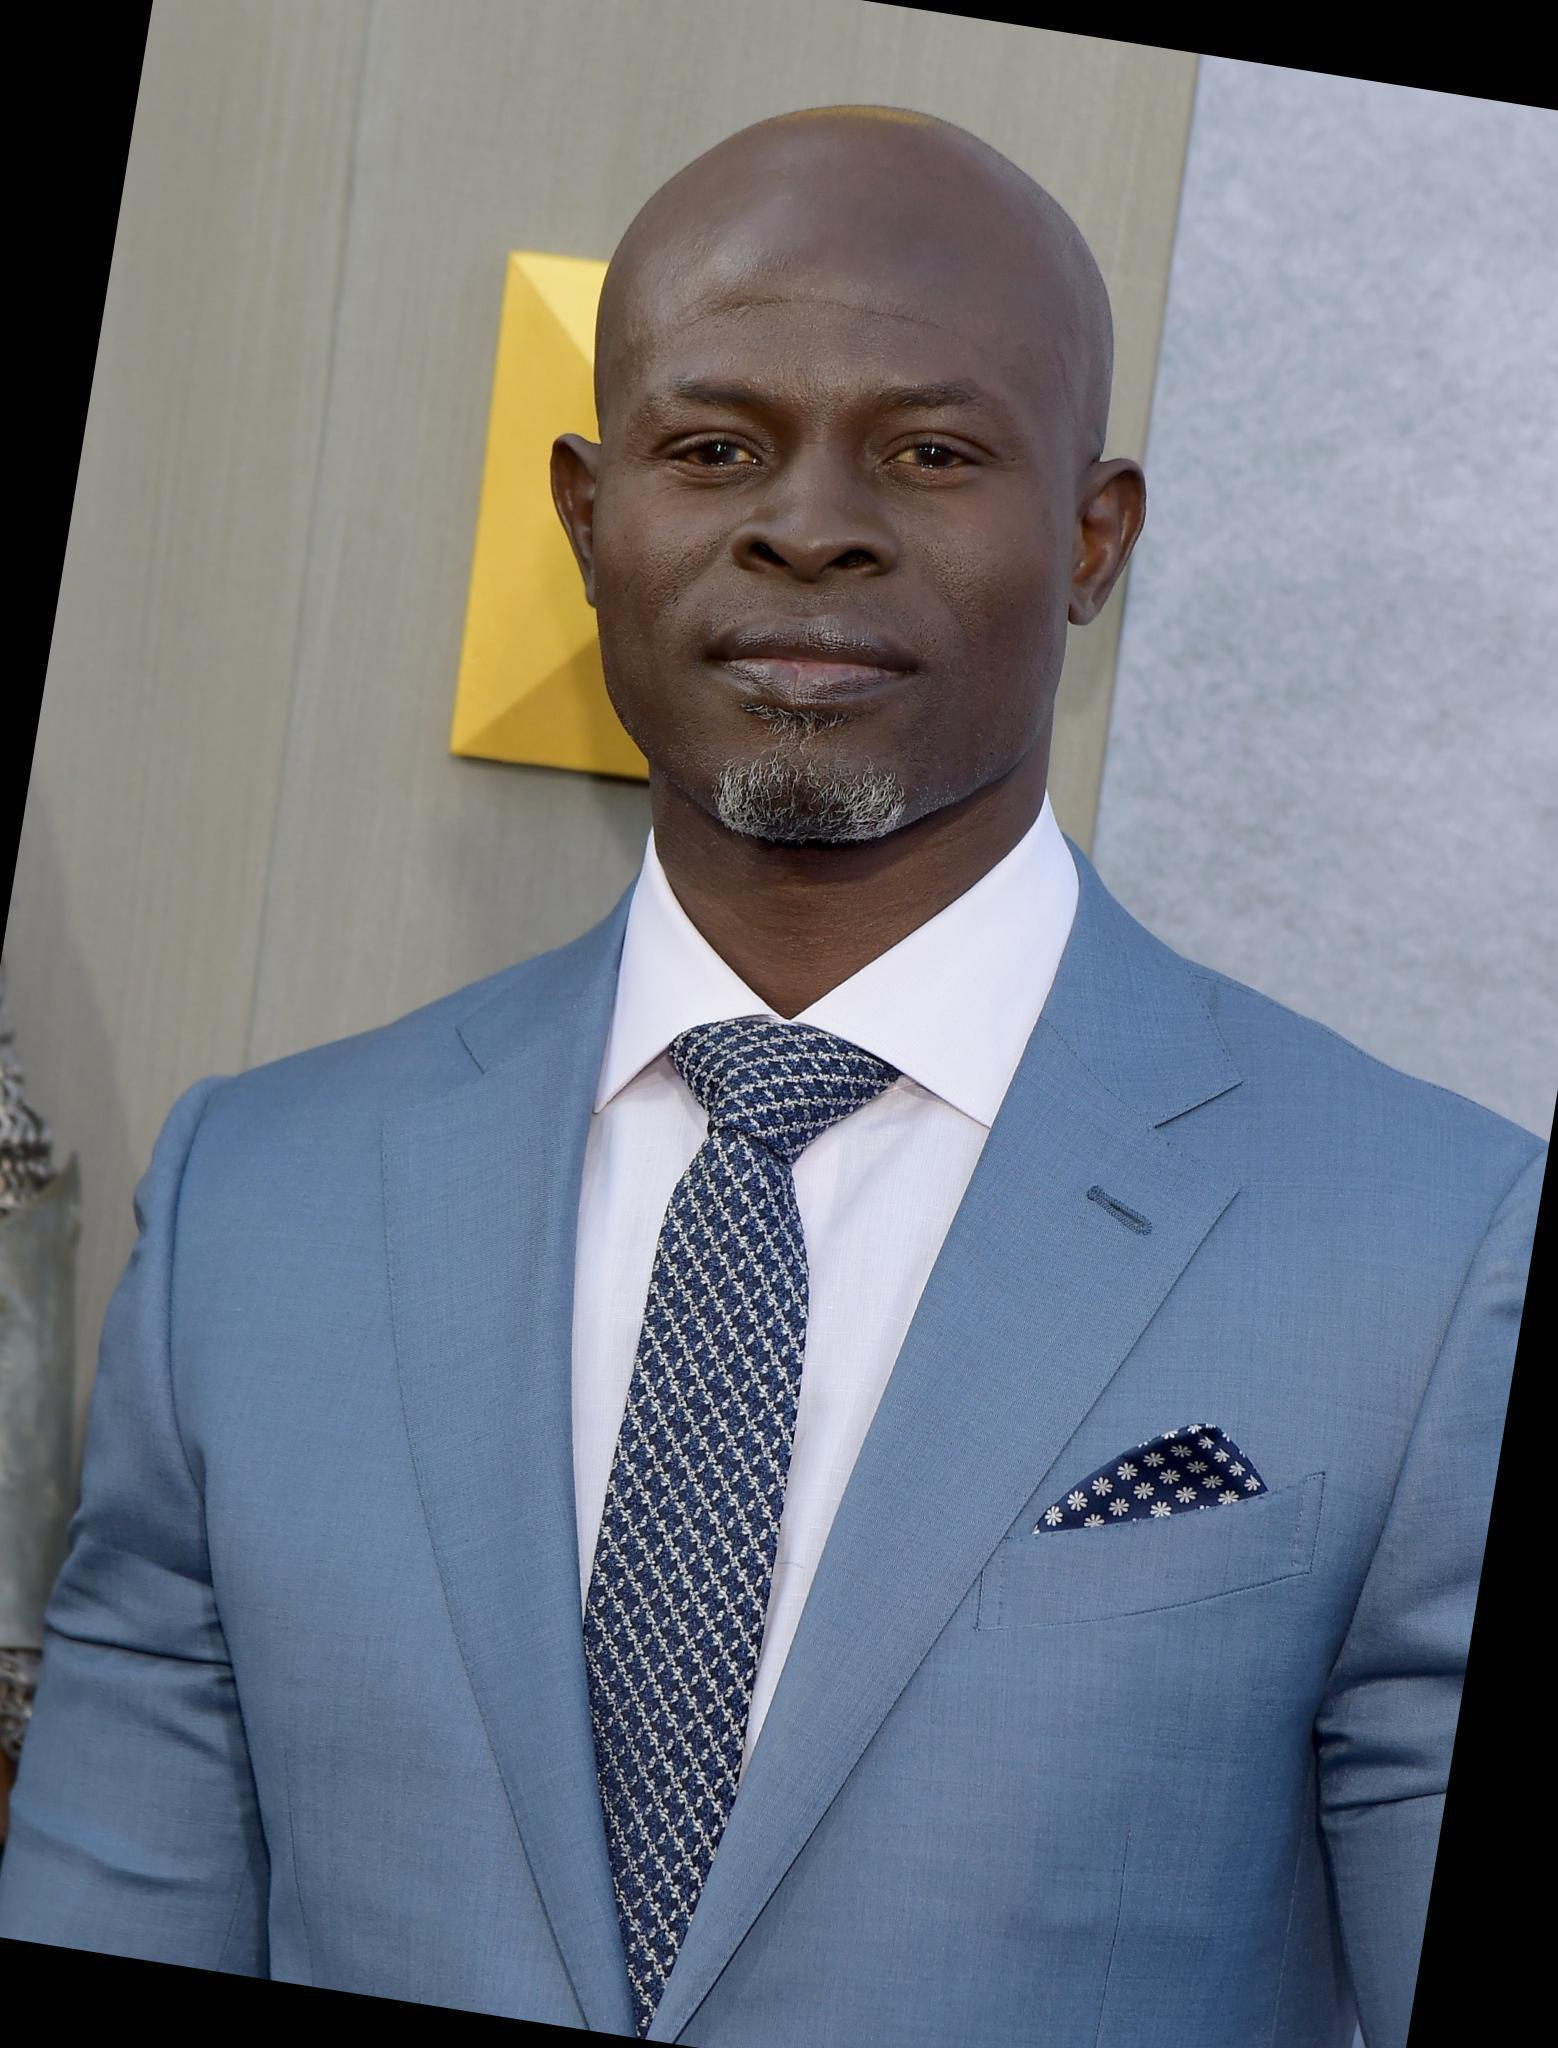Sober: (632, 221, 1074, 841)
